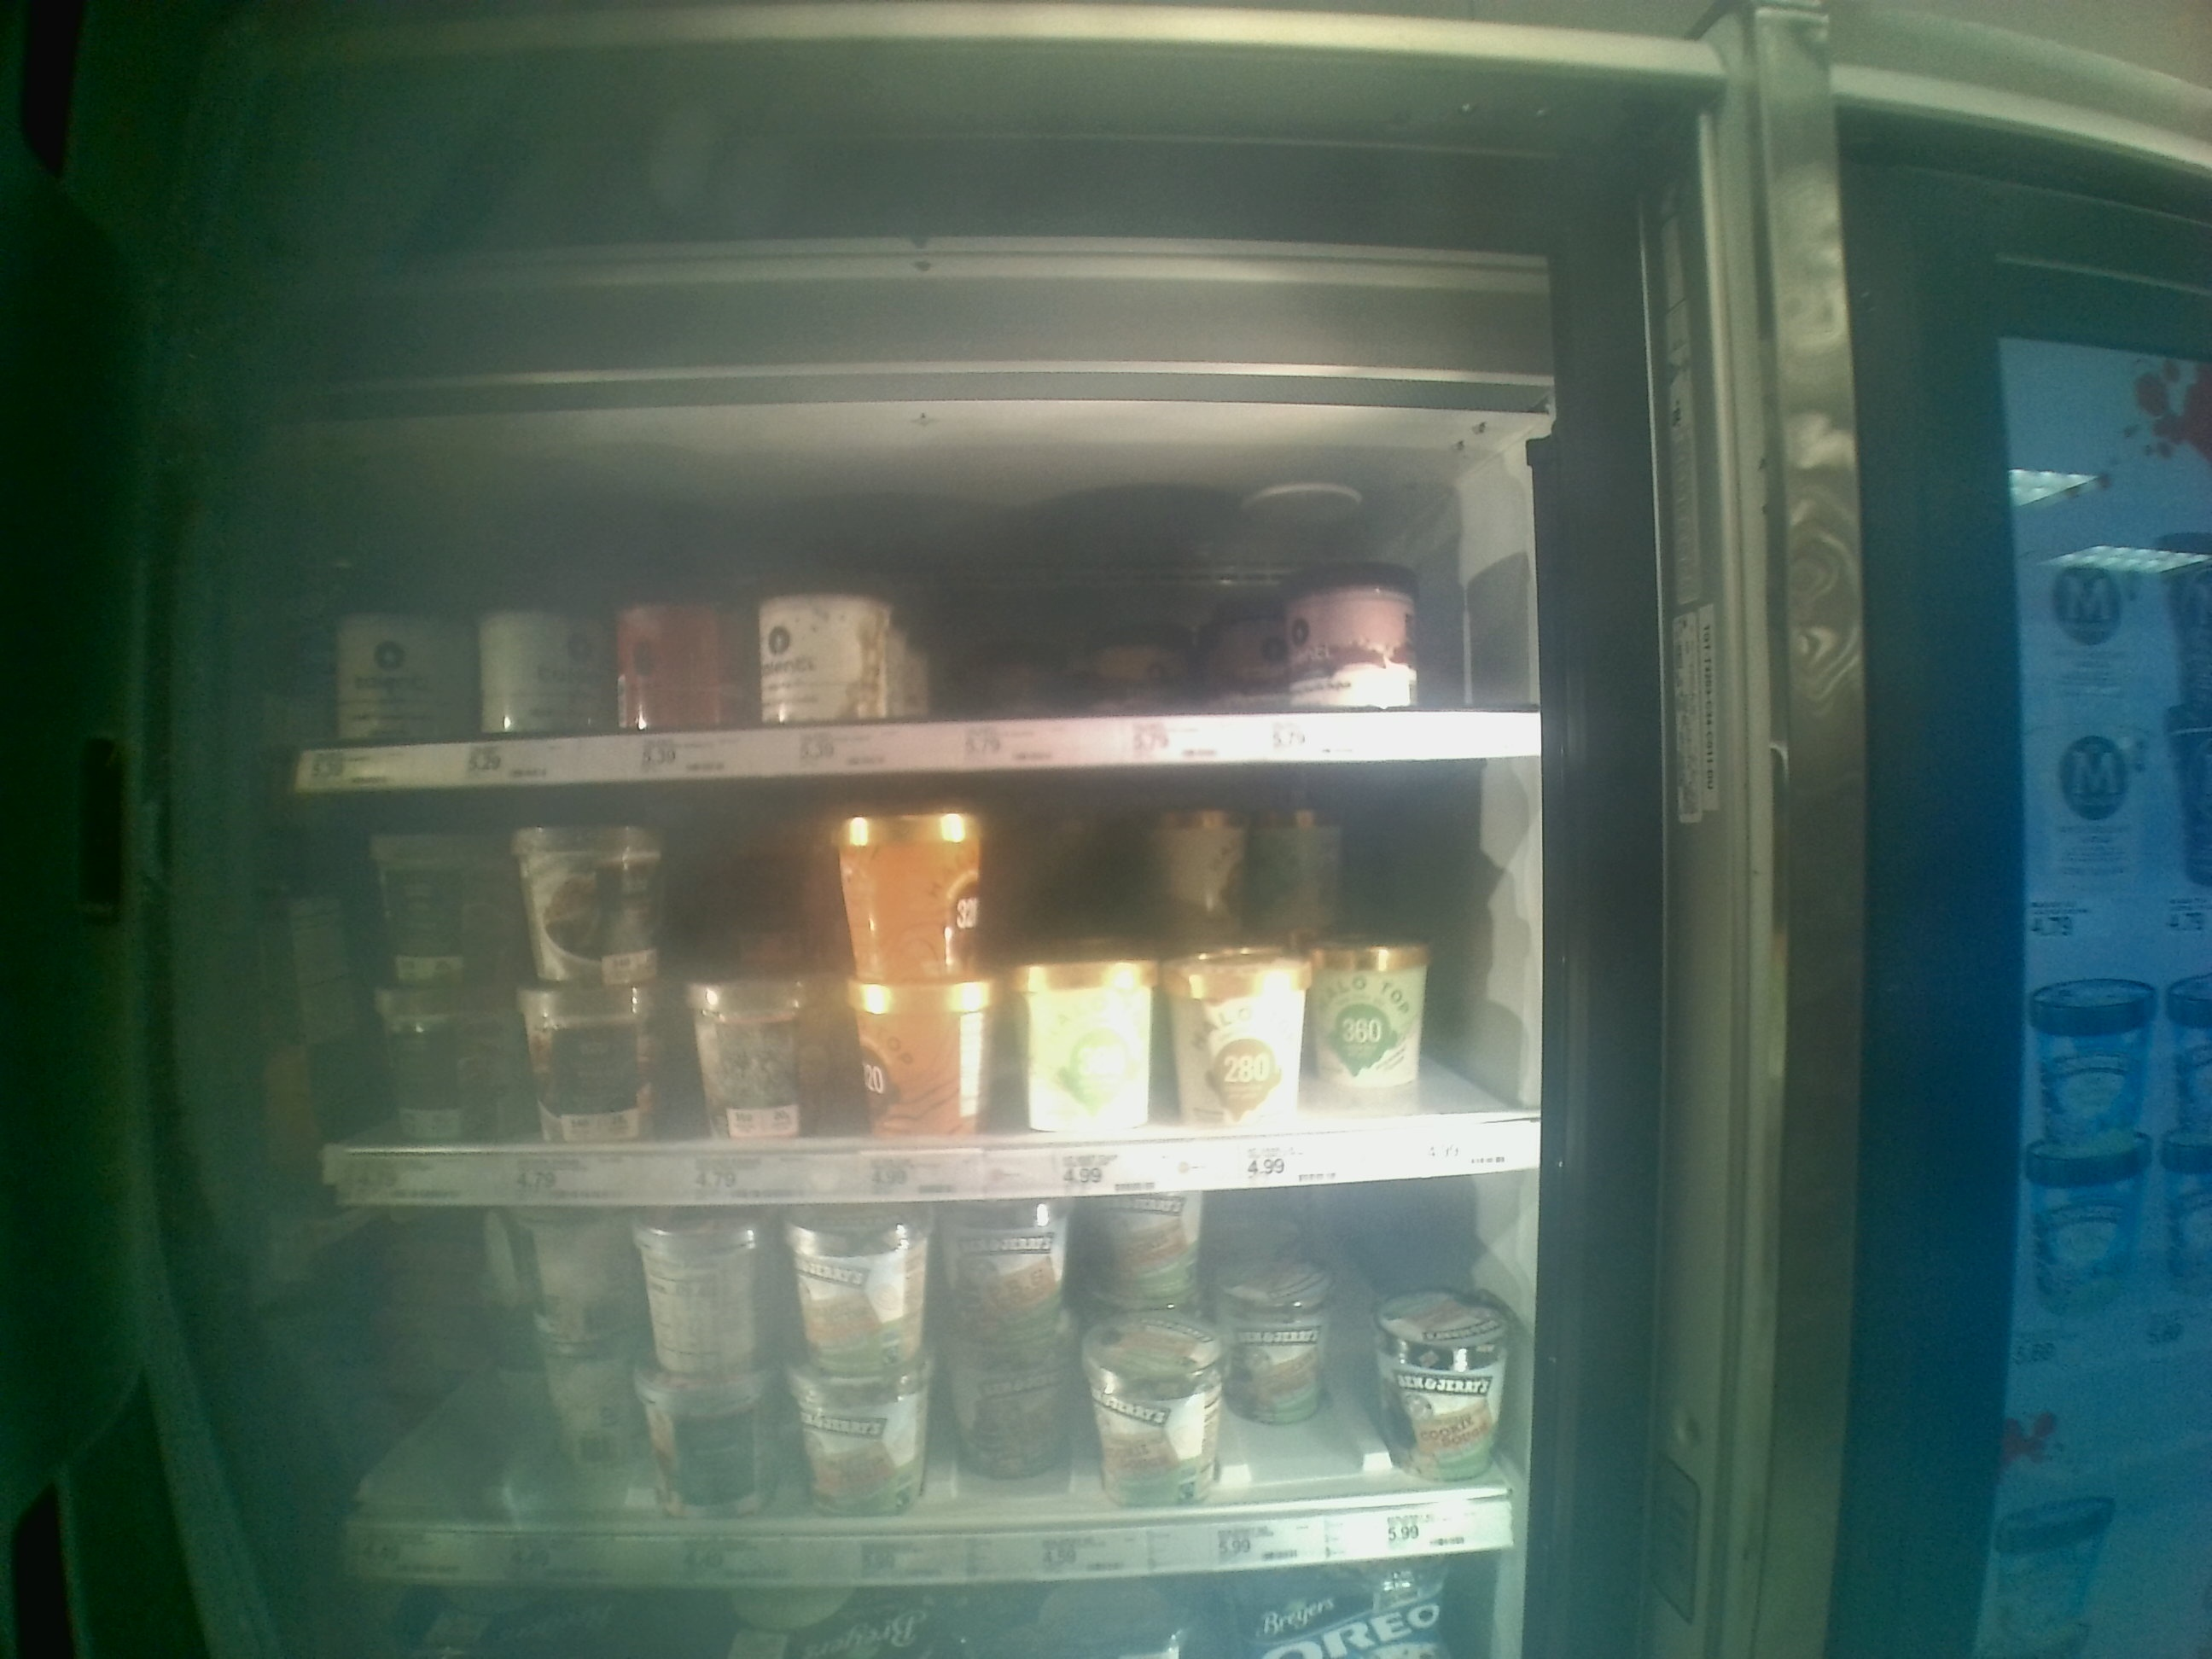ice-cream-shelf: (300, 791, 1538, 1187)
